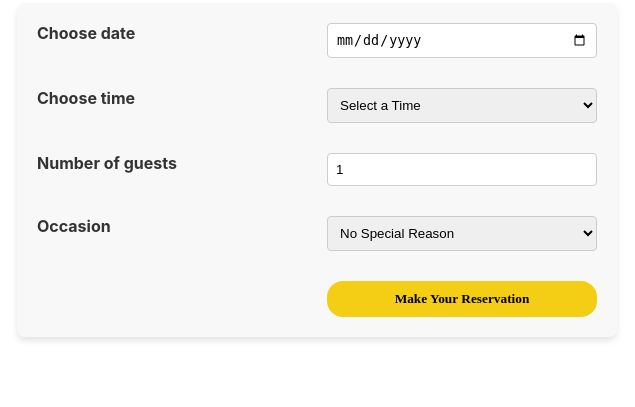
Test: BookingForm JavaScript Validation › displays error message when date is more then 1 year in the future
Type "2032-01-01" into the date field labelled "Choose date" at {"x": 462, "y": 41}, box [327,23,597,58]
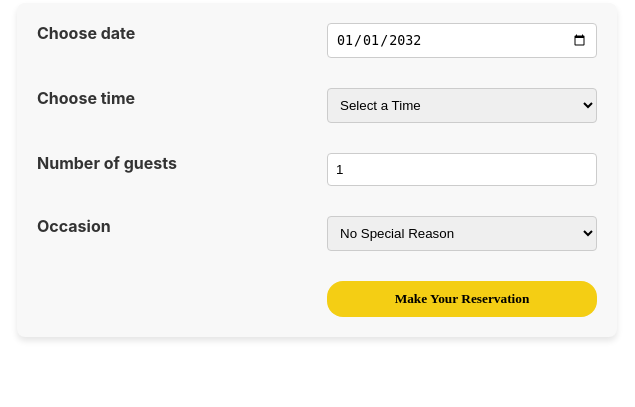
Leave the date field labelled "Choose date", box [327,23,597,58]
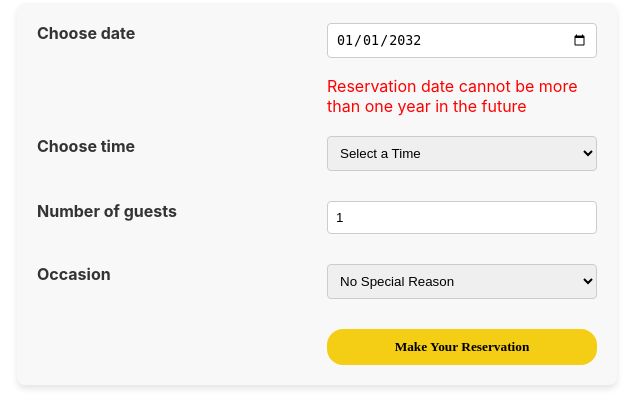
Expected: the text "Reservation date cannot be more than one year in the future" is shown, [327,76,597,116]
